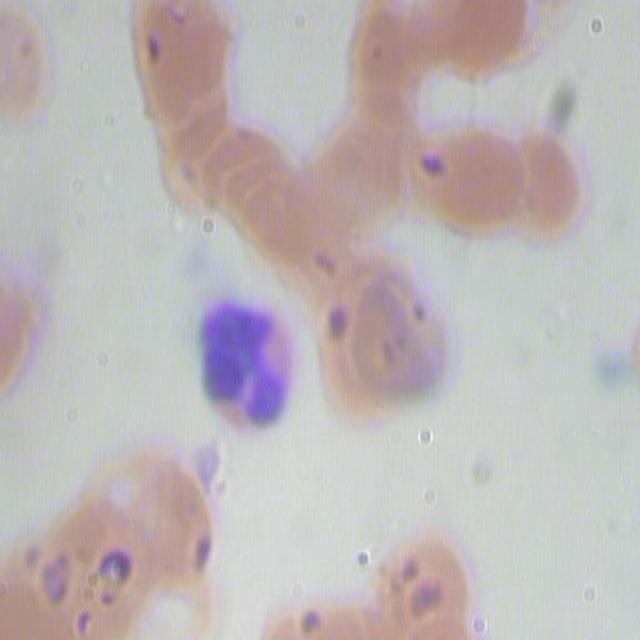RBC: (313, 246, 458, 429), (370, 524, 468, 637)
WBC: (195, 278, 307, 462)
